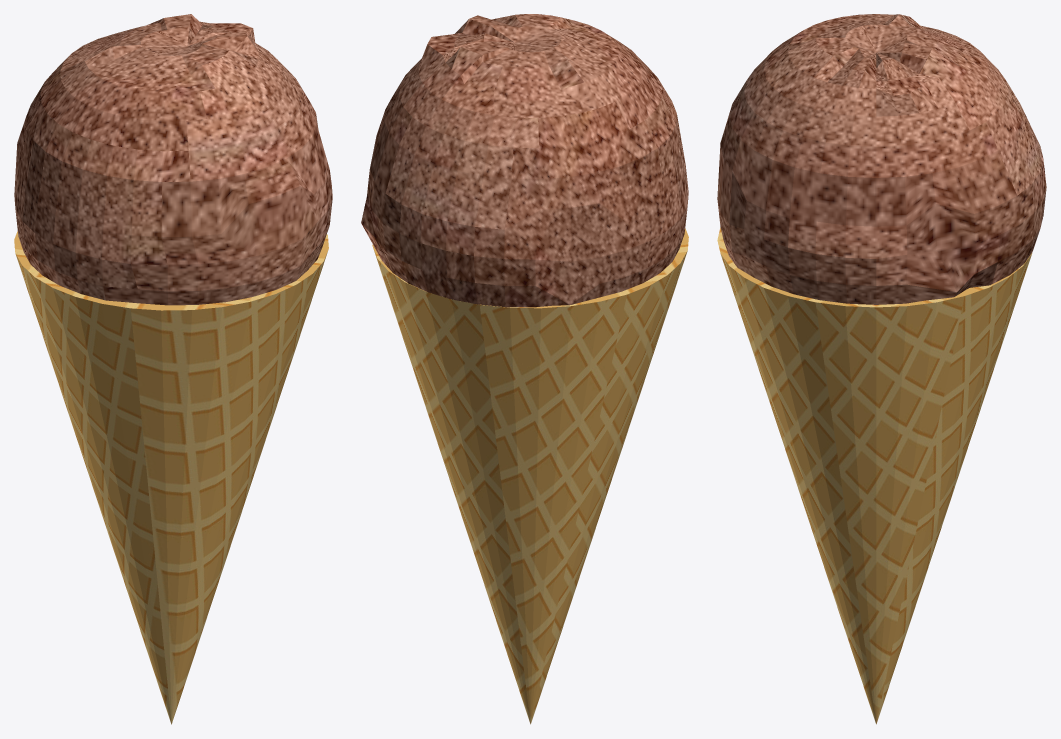
The model's file is ice_cream.fbx.
3 views of the same model, side by side, from view 1: azimuth 30°, elevation 25°; view 2: azimuth 150°, elevation 25°; view 3: azimuth 270°, elevation 25° (orthographic).
Visible parts, largest first — view 1: Cone; view 2: Cone; view 3: Cone.
Part boxes in pixels (x1,y1,x2,y2): Cone: [14, 14, 332, 724]; Cone: [361, 14, 688, 724]; Cone: [717, 14, 1046, 724].
Size of the model in its own units: 203 by 477 by 207.
2 materials, 2 textured.
